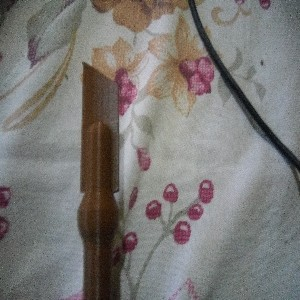cutter: (75, 59, 122, 300)
